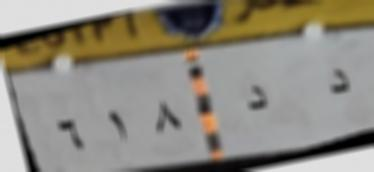1: (106, 105, 133, 151)
6: (47, 111, 92, 161)
8: (148, 94, 184, 139)
daal: (323, 64, 357, 104), (240, 78, 272, 118)
